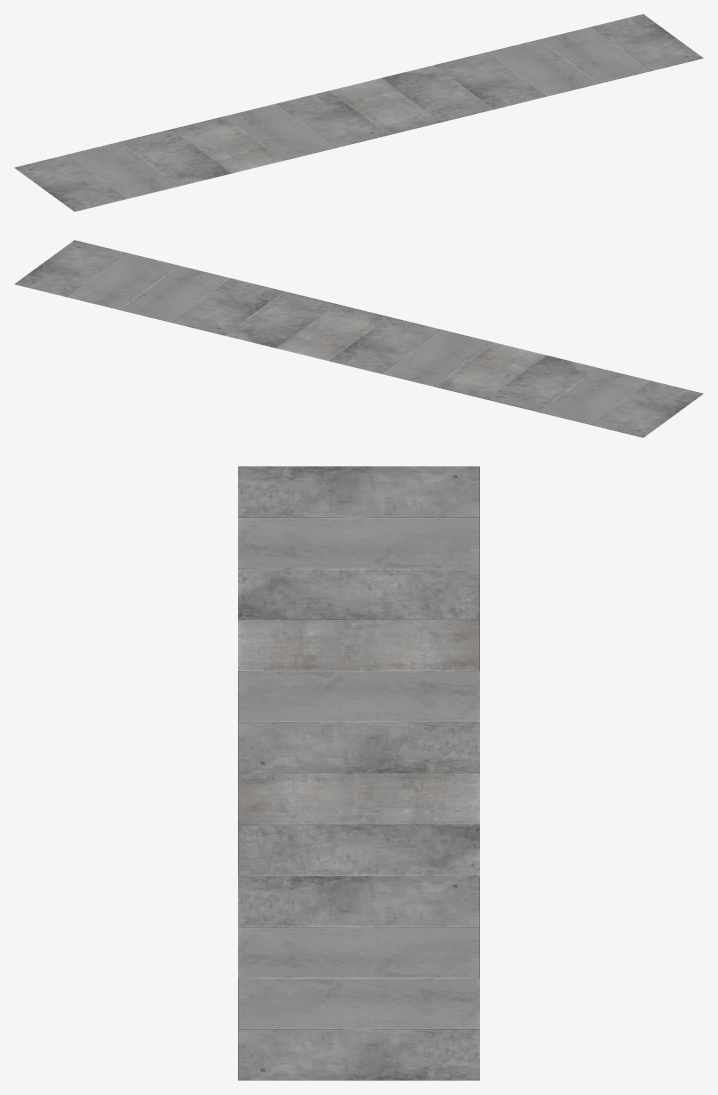
Rendered from HH_Sidewalk_B_2x12m_01.fbx.
The picture shows the model from 3 angles, top to bottom: view 1: azimuth 30°, elevation 25°; view 2: azimuth 150°, elevation 25°; view 3: azimuth 270°, elevation 25°; orthographic projection. The views are drawn at different scales.
Visible parts, largest first — view 1: HH_Sidewalk_B_2x12m_01; view 2: HH_Sidewalk_B_2x12m_01; view 3: HH_Sidewalk_B_2x12m_01.
Part boxes in pixels (x1,y1,x2,y2): HH_Sidewalk_B_2x12m_01: [14, 14, 703, 211]; HH_Sidewalk_B_2x12m_01: [14, 240, 703, 437]; HH_Sidewalk_B_2x12m_01: [238, 466, 479, 1080].
Bounding box in the file's own units: 1200 × 0 × 200.
